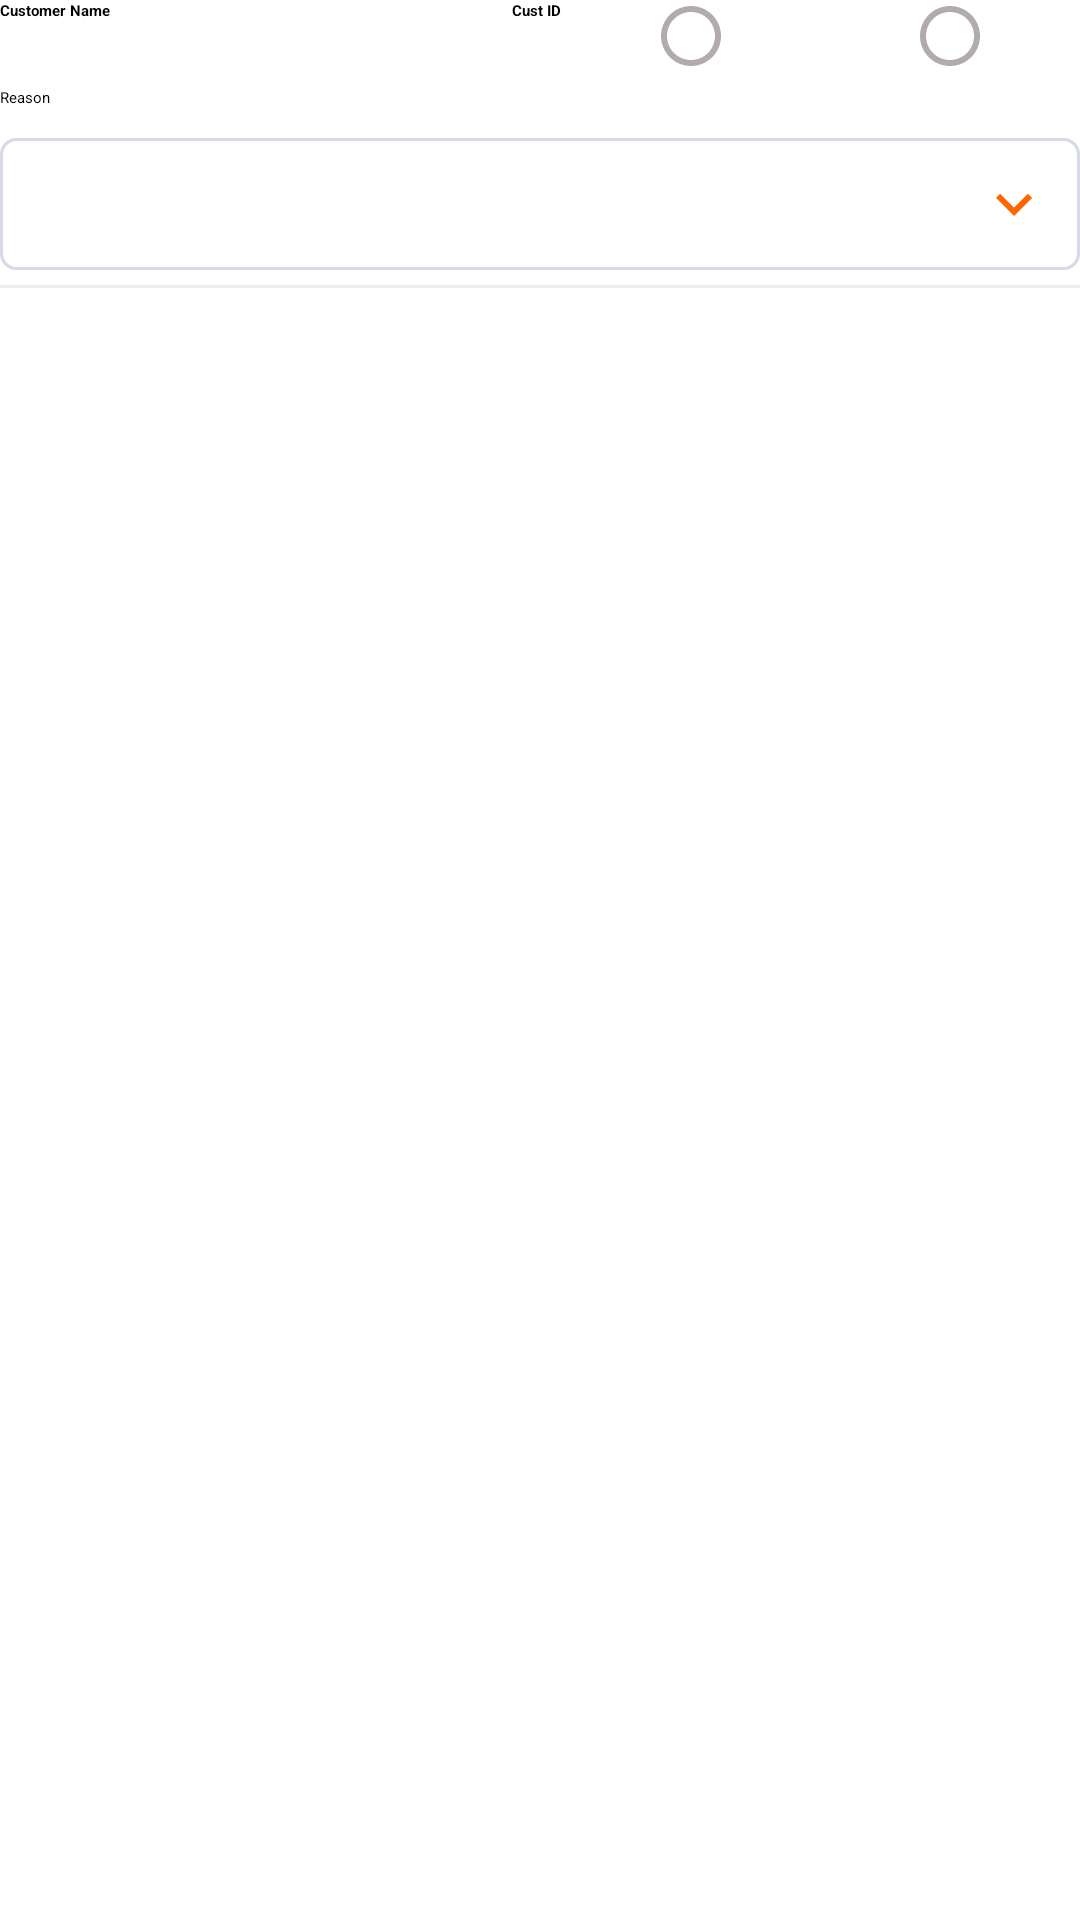

Where to tap for icons on this 1080*1920 app screen, as point (x, y):
radio unchecked: point (691, 36), point (950, 36)
